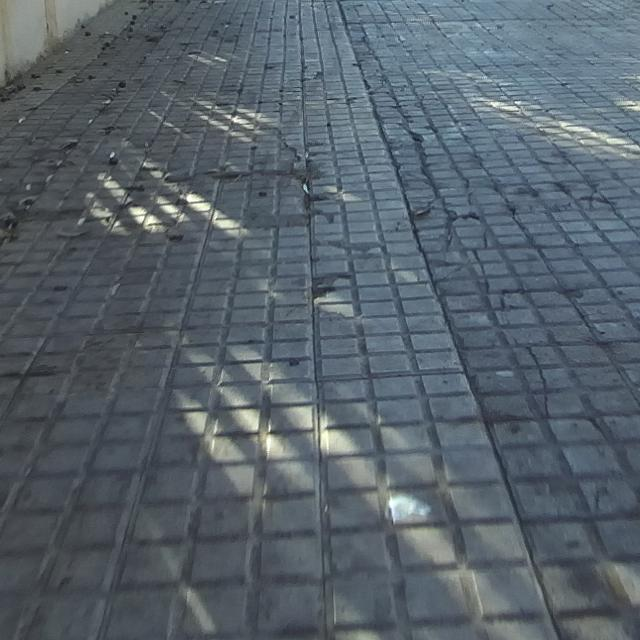calcada_quebrada: (425, 189, 500, 251), (463, 249, 519, 329), (513, 343, 571, 419), (280, 142, 332, 220), (393, 122, 441, 188), (555, 180, 621, 210)
